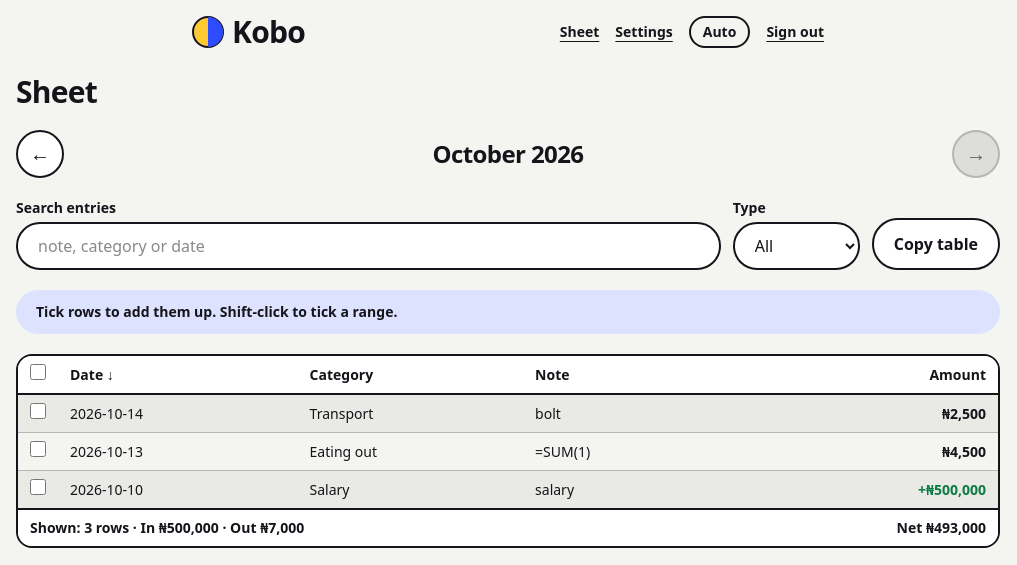
Test: SheetPage › selects a range with shift-click, and everything with Select all
Step 1. Click the checkbox named "Select bolt, 2026-10-14" → (38, 411), box [30,403,46,419]
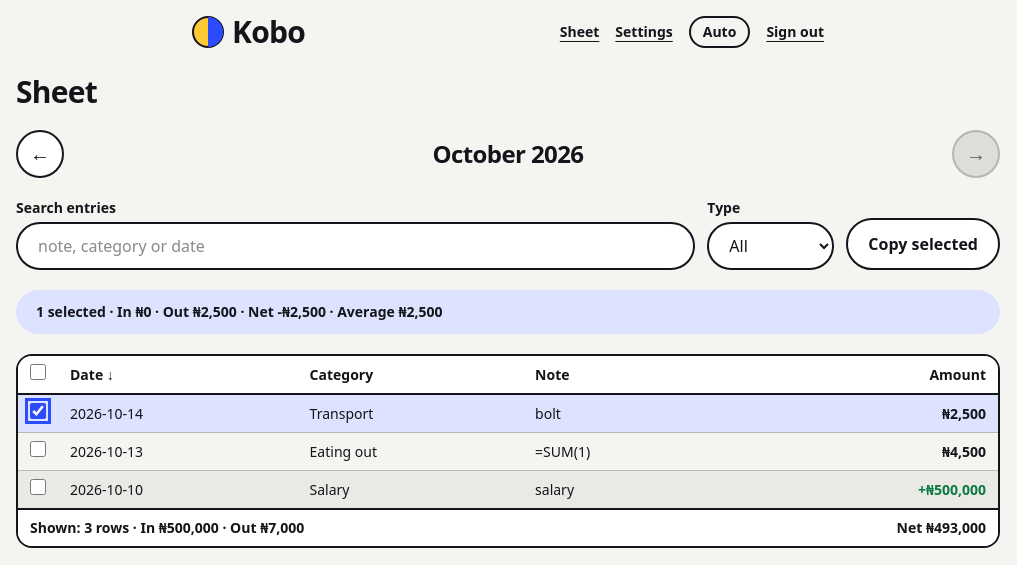
Step 2. Type keys "{Shift>}"
Step 3. Click the checkbox named "Select salary, 2026-10-10" → (38, 487), box [30,479,46,495]
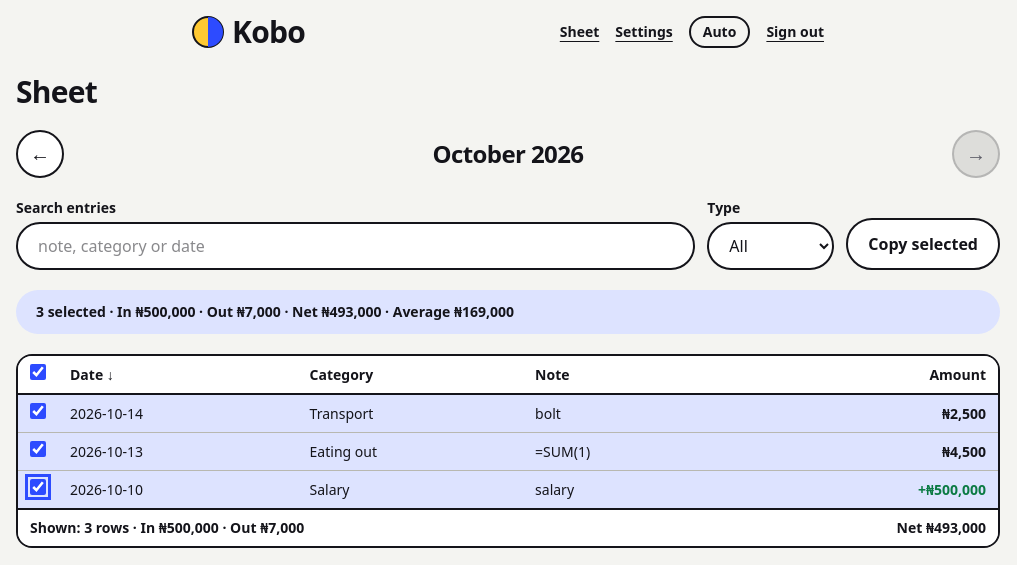
Step 4. Type keys "{/Shift}"
Result: the message shows "3 selected" at [36,302,514,321]
Step 5. Click the checkbox named "Select all rows" → (38, 372), box [30,364,46,380]
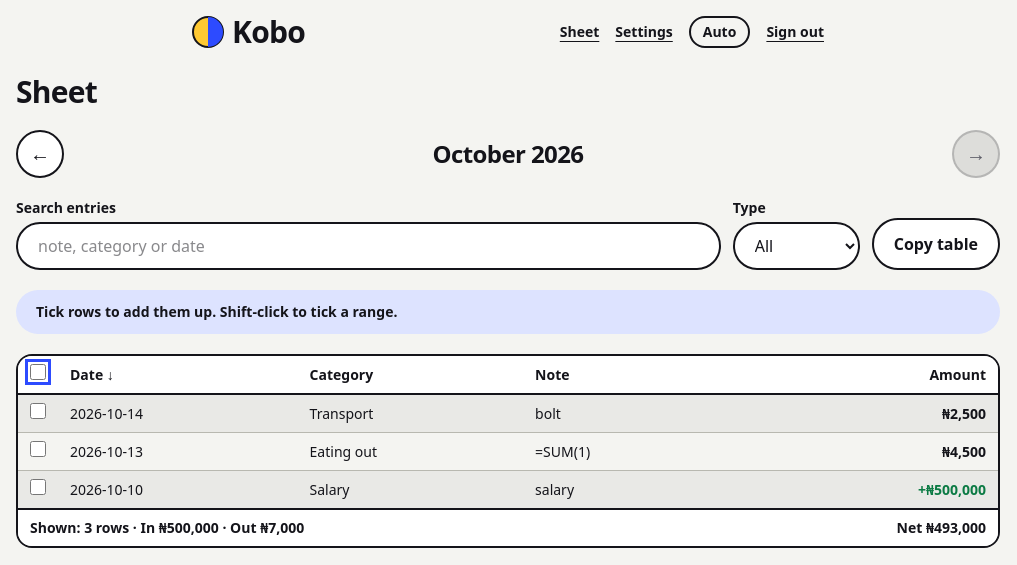
Result: the message shows "Tick rows to add them up" at [36,302,397,321]
Step 6. Click the checkbox named "Select all rows" → (38, 372), box [30,364,46,380]
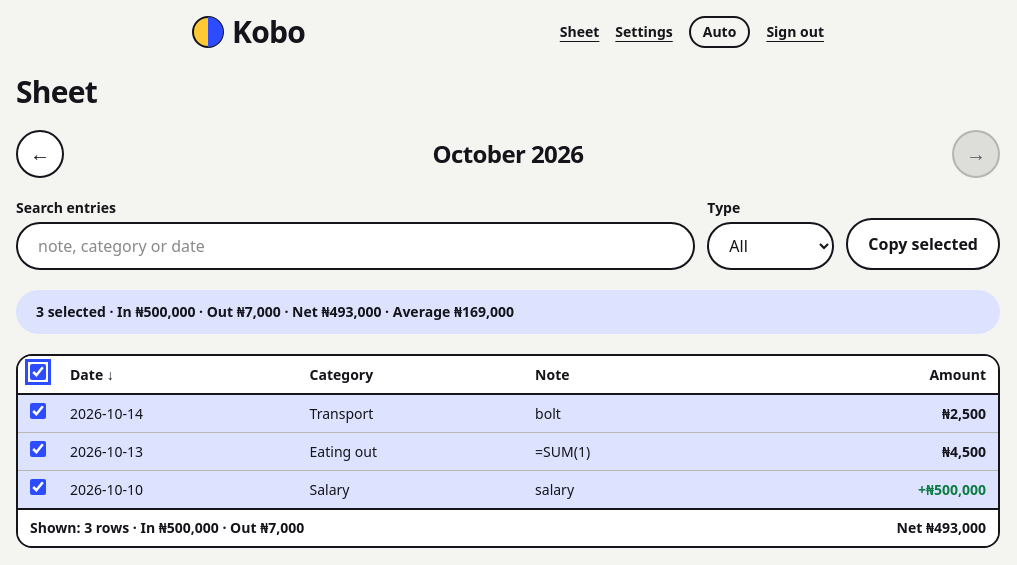
Result: the message shows "3 selected" at [36,302,514,321]
